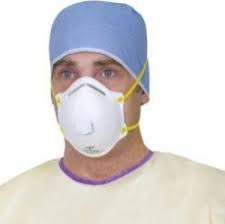with-mask: (48, 5, 154, 158)
